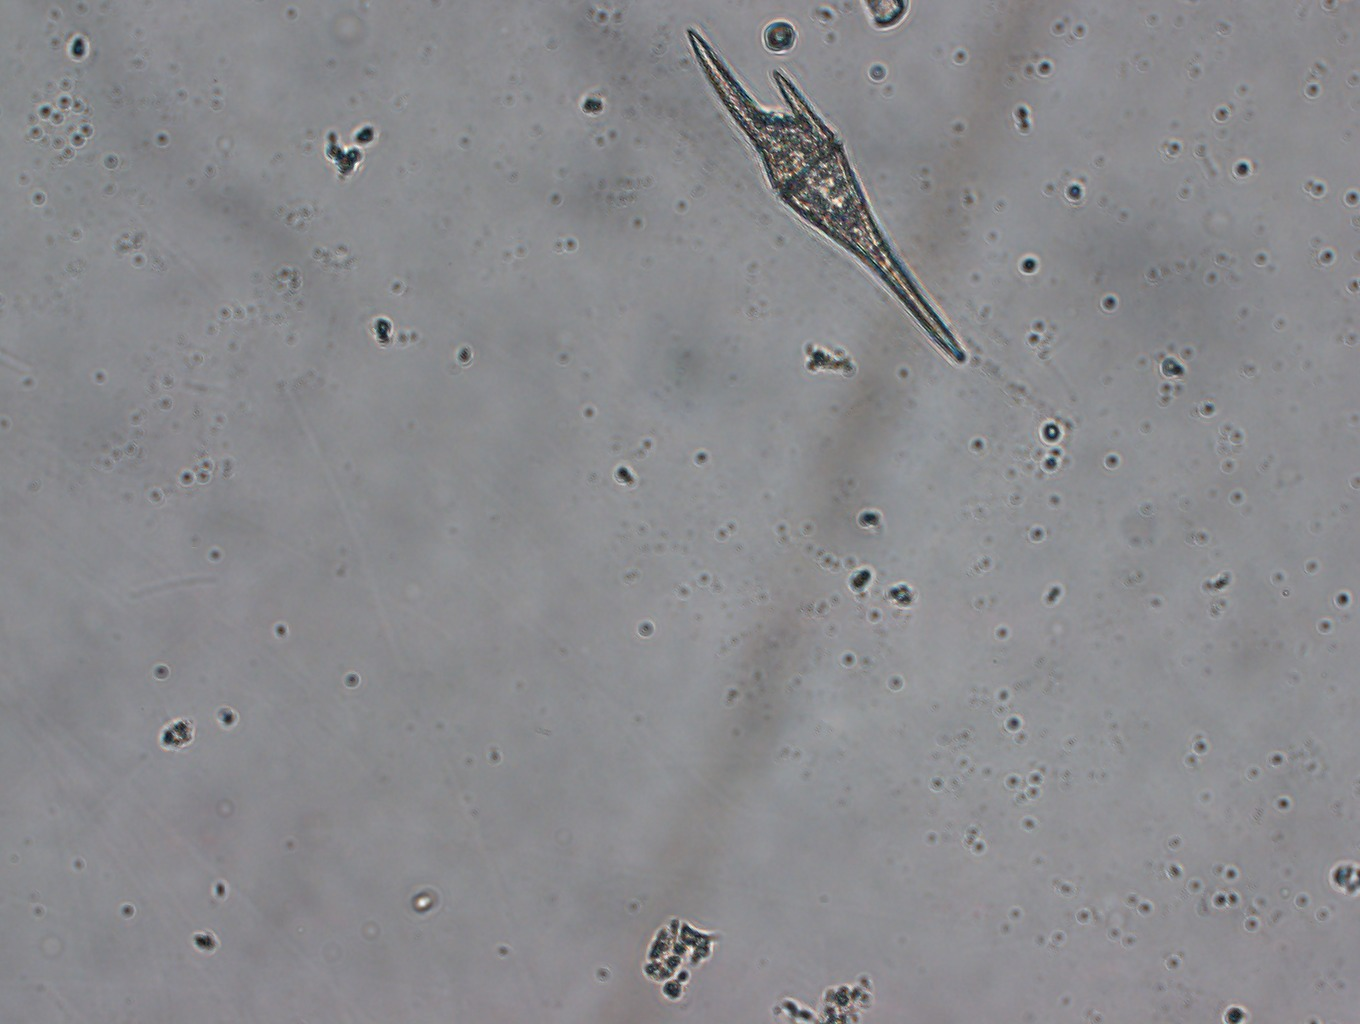ceratium furca: (681, 25, 968, 366)
